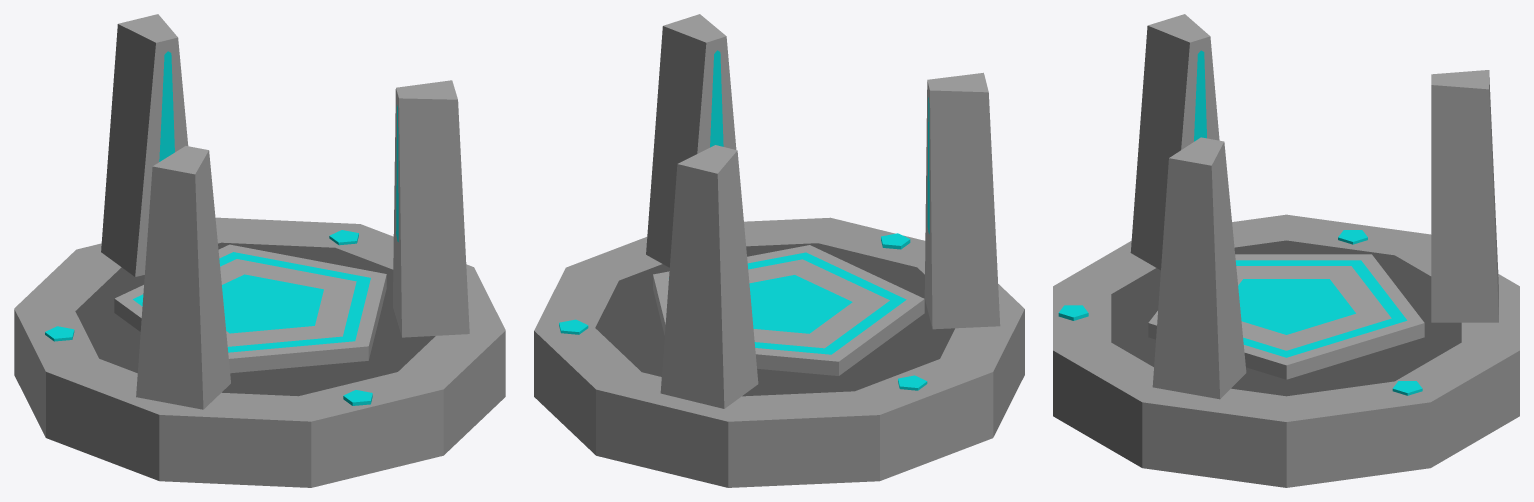
Rendered from teleport_blue_2.fbx.
3 renders of one model, left to right at view 1: azimuth 30°, elevation 25°; view 2: azimuth 150°, elevation 25°; view 3: azimuth 270°, elevation 25°, orthographic.
Visible parts, largest first — view 1: polySurface18; view 2: polySurface18; view 3: polySurface18.
Boxes of the visible parts, bbox=[...] form: polySurface18: bbox=[14, 14, 505, 487]; polySurface18: bbox=[534, 14, 1024, 487]; polySurface18: bbox=[1053, 14, 1519, 487].
Size of the model in its own units: 424 by 281 by 403.
